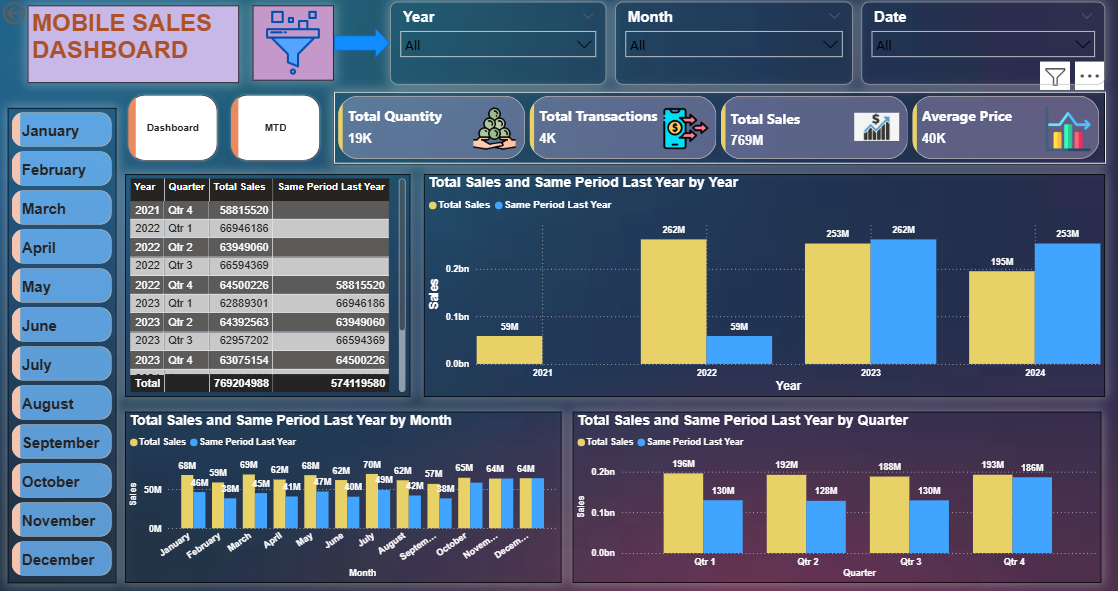

The page's visual inventory and layout, read from the dashboard file:
{"tool":"powerbi","page":{"name":"Same Period Last Year","canvas":[1500,800],"ordinal":2},"visuals":[{"type":"textbox","box":[38.3,10,281.7,103.3],"z":0},{"type":"cardVisual","fields":{"Data":["Sales_Data.Total Quantity","Sales_Data.Total Transactions","Sales_Data.Total Sales","Sales_Data.Average Price"]},"box":[446.7,125,1028.3,96.7],"z":1000},{"type":"advancedSlicerVisual","fields":{"Values":["Custim_calendar.Date.Variation.Date Hierarchy.Month"]},"box":[11.7,146.7,145,633.3],"z":2000},{"type":"slicer","fields":{"Values":["Custom Calandar.Date.Variation.Date Hierarchy.Year"]},"box":[521.7,5,288.3,110],"z":3000},{"type":"slicer","fields":{"Values":["Custom Calandar.Date.Variation.Date Hierarchy.Day"]},"box":[1150,5,325,110],"z":4000},{"type":"slicer","fields":{"Values":["Custom Calandar.Date.Variation.Date Hierarchy.Month"]},"box":[821.7,5,316.7,110],"z":5000},{"type":"actionButton","box":[0,0,100,40],"z":6000},{"type":"image","box":[338.3,10,108.3,100],"z":7000},{"type":"shape","box":[446.7,40,75,40],"z":8000},{"type":"tableEx","fields":{"Values":["Custom Calandar.Date.Variation.Date Hierarchy.Year","Custom Calandar.Date.Variation.Date Hierarchy.Quarter","Sales_Data.Total Sales","Sales_Data.Same Period Last Year"]},"box":[168.3,235,380,296.7],"z":9000},{"type":"clusteredColumnChart","fields":{"Category":["Custom Calandar.Date.Variation.Date Hierarchy.Year","Custom Calandar.Date.Variation.Date Hierarchy.Quarter"],"Y":["Sales_Data.Total Sales","Sales_Data.Same Period Last Year"]},"box":[566.7,235,908.3,296.7],"z":10000},{"type":"clusteredColumnChart","fields":{"Category":["Custom Calandar.Date.Variation.Date Hierarchy.Quarter"],"Y":["Sales_Data.Total Sales","Sales_Data.Same Period Last Year"]},"box":[765,551.7,705,228.3],"z":11000},{"type":"clusteredColumnChart","fields":{"Y":["Sales_Data.Total Sales","Sales_Data.Same Period Last Year"],"Category":["Custom Calandar.Date.Variation.Date Hierarchy.Month"]},"box":[168.3,551.7,581.7,228.3],"z":12000},{"type":"pageNavigator","box":[168.3,125,265,96.7],"z":13000}]}

Visuals, with their boxes in screenshot pixels (x1, y1, x2, y2), scaled from the page's 1500x800 canvas onto the 1118x591 screenshot:
textbox: (x1=29, y1=7, x2=239, y2=84)
cardVisual - Sales_Data.Total Quantity x Sales_Data.Total Transactions: (x1=333, y1=92, x2=1099, y2=164)
advancedSlicerVisual - Custim_calendar.Date.Variation.Date Hierarchy.Month: (x1=9, y1=108, x2=117, y2=576)
slicer - Custom Calandar.Date.Variation.Date Hierarchy.Year: (x1=389, y1=4, x2=604, y2=85)
slicer - Custom Calandar.Date.Variation.Date Hierarchy.Day: (x1=857, y1=4, x2=1099, y2=85)
slicer - Custom Calandar.Date.Variation.Date Hierarchy.Month: (x1=612, y1=4, x2=848, y2=85)
actionButton: (x1=0, y1=0, x2=75, y2=30)
image: (x1=252, y1=7, x2=333, y2=81)
shape: (x1=333, y1=30, x2=389, y2=59)
tableEx - Custom Calandar.Date.Variation.Date Hierarchy.Year x Custom Calandar.Date.Variation.Date Hierarchy.Quarter: (x1=125, y1=174, x2=409, y2=393)
clusteredColumnChart - Custom Calandar.Date.Variation.Date Hierarchy.Year x Custom Calandar.Date.Variation.Date Hierarchy.Quarter: (x1=422, y1=174, x2=1099, y2=393)
clusteredColumnChart - Custom Calandar.Date.Variation.Date Hierarchy.Quarter x Sales_Data.Total Sales: (x1=570, y1=408, x2=1096, y2=576)
clusteredColumnChart - Sales_Data.Total Sales x Sales_Data.Same Period Last Year: (x1=125, y1=408, x2=559, y2=576)
pageNavigator: (x1=125, y1=92, x2=323, y2=164)
